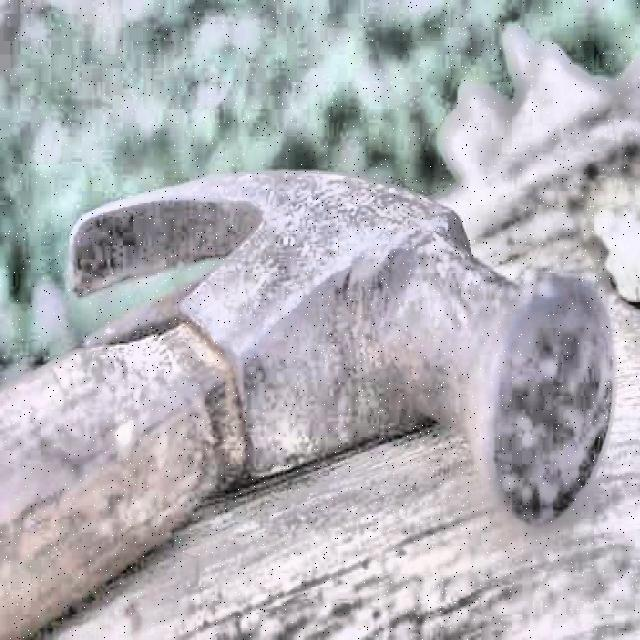hammer: (0, 167, 618, 639)
